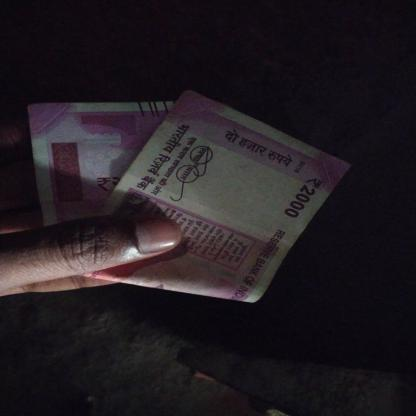New2000Back: (92, 105, 327, 301)
